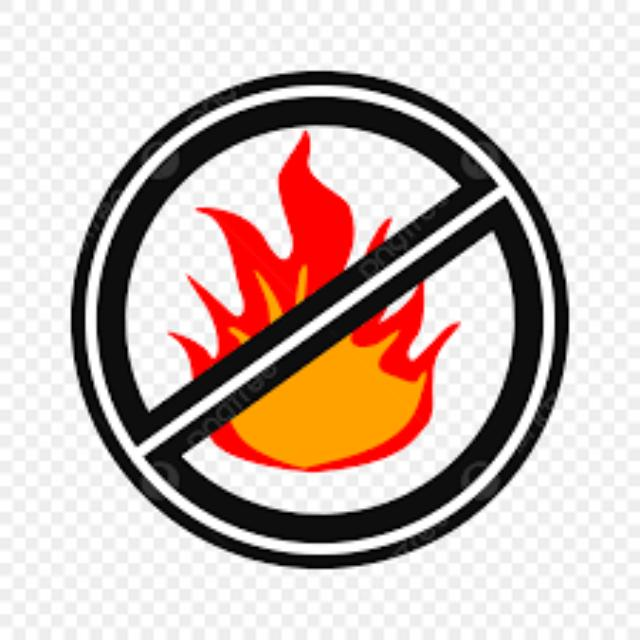cam lua: (77, 82, 560, 560)
